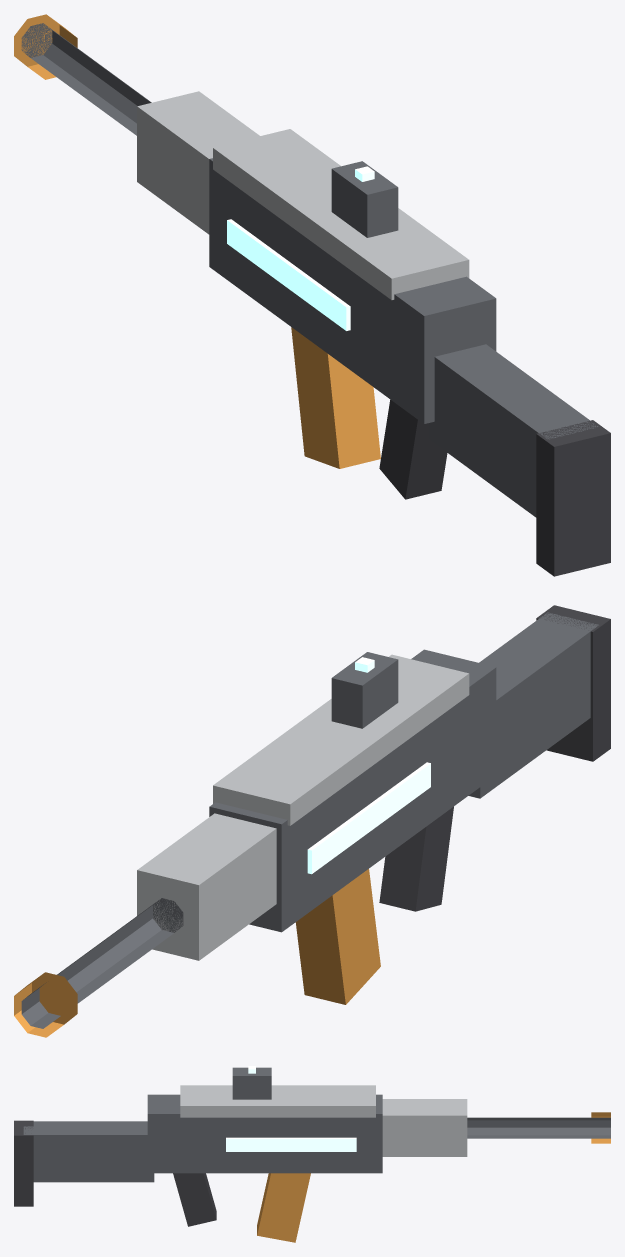
File: blaster.glb
The picture shows the model from 3 angles, top to bottom: view 1: azimuth 30°, elevation 25°; view 2: azimuth 150°, elevation 25°; view 3: azimuth 270°, elevation 25°; orthographic projection. The views are drawn at different scales.
Visible parts, largest first — view 1: blaster; view 2: blaster; view 3: blaster.
Part boxes in pixels (bbox=[...]): blaster: bbox=[14, 14, 610, 576]; blaster: bbox=[14, 605, 610, 1037]; blaster: bbox=[14, 1066, 610, 1242].
Size of the model in its own units: 0.082 by 0.2867 by 0.915.
